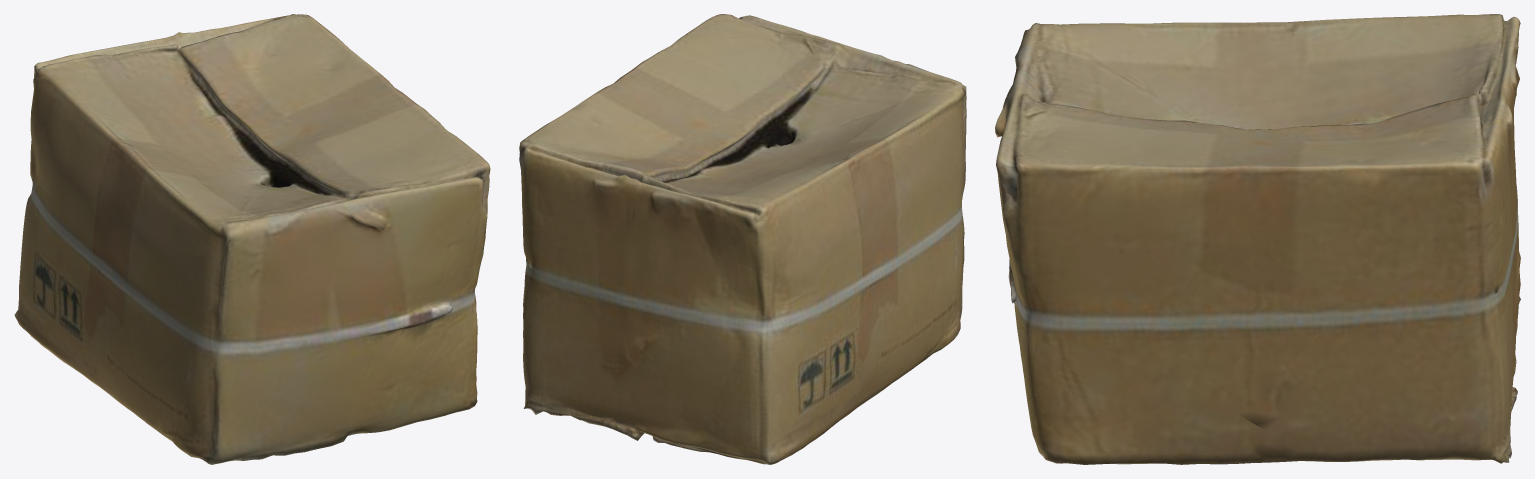
The model's file is ph_cardboard_box_01.glb.
The picture shows the model from 3 angles, left to right: view 1: azimuth 30°, elevation 25°; view 2: azimuth 150°, elevation 25°; view 3: azimuth 270°, elevation 25°; orthographic projection. The views are drawn at different scales.
Parts seen in each view (by area): view 1: cardboard_box_01; view 2: cardboard_box_01; view 3: cardboard_box_01.
Part boxes in pixels (x1,y1,x2,y2): cardboard_box_01: (14,14,490,464); cardboard_box_01: (519,14,966,464); cardboard_box_01: (995,14,1520,464).
Bounding box in the file's own units: 0.3871 × 0.3418 × 0.5159.
Materials: 1 (1 with a texture image).
